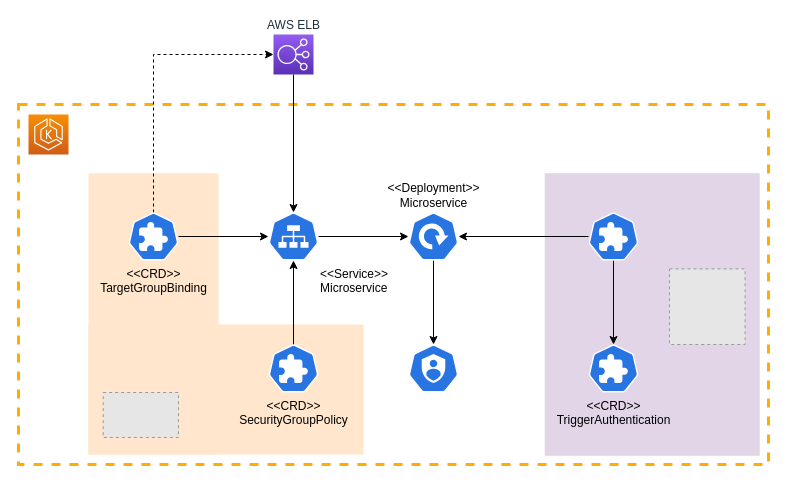
Image size: 787x483. Some labels were removed from this diagram. Grey dashed boxes stand in for pictures. The shapes that lost their labels are listed below. From the top down, each one's centre as x and y in pixels, then its label:
At point (48, 134): "EKS".
At point (613, 236): "<<CRD>> ScaledObject".
At point (433, 368): "<<ServiceAccount>>".
